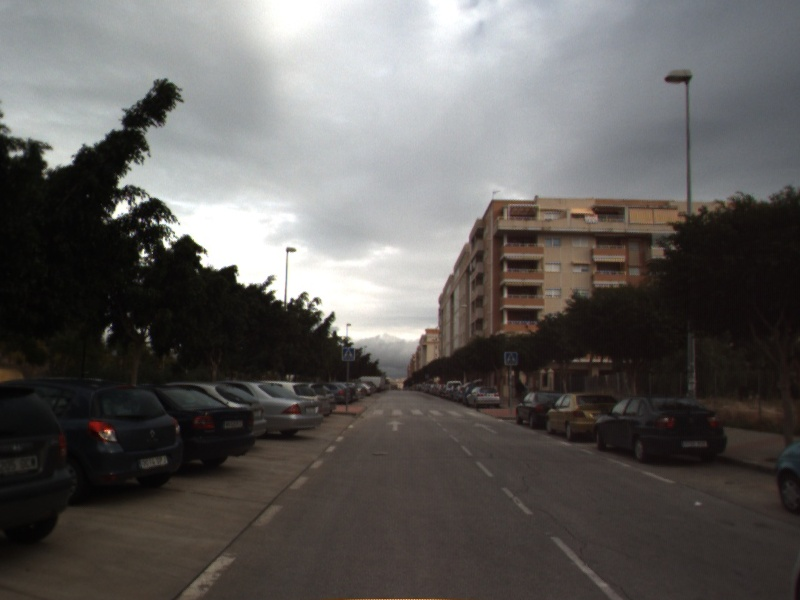STRAIGHT: (471, 420, 500, 436), (385, 418, 406, 433)
